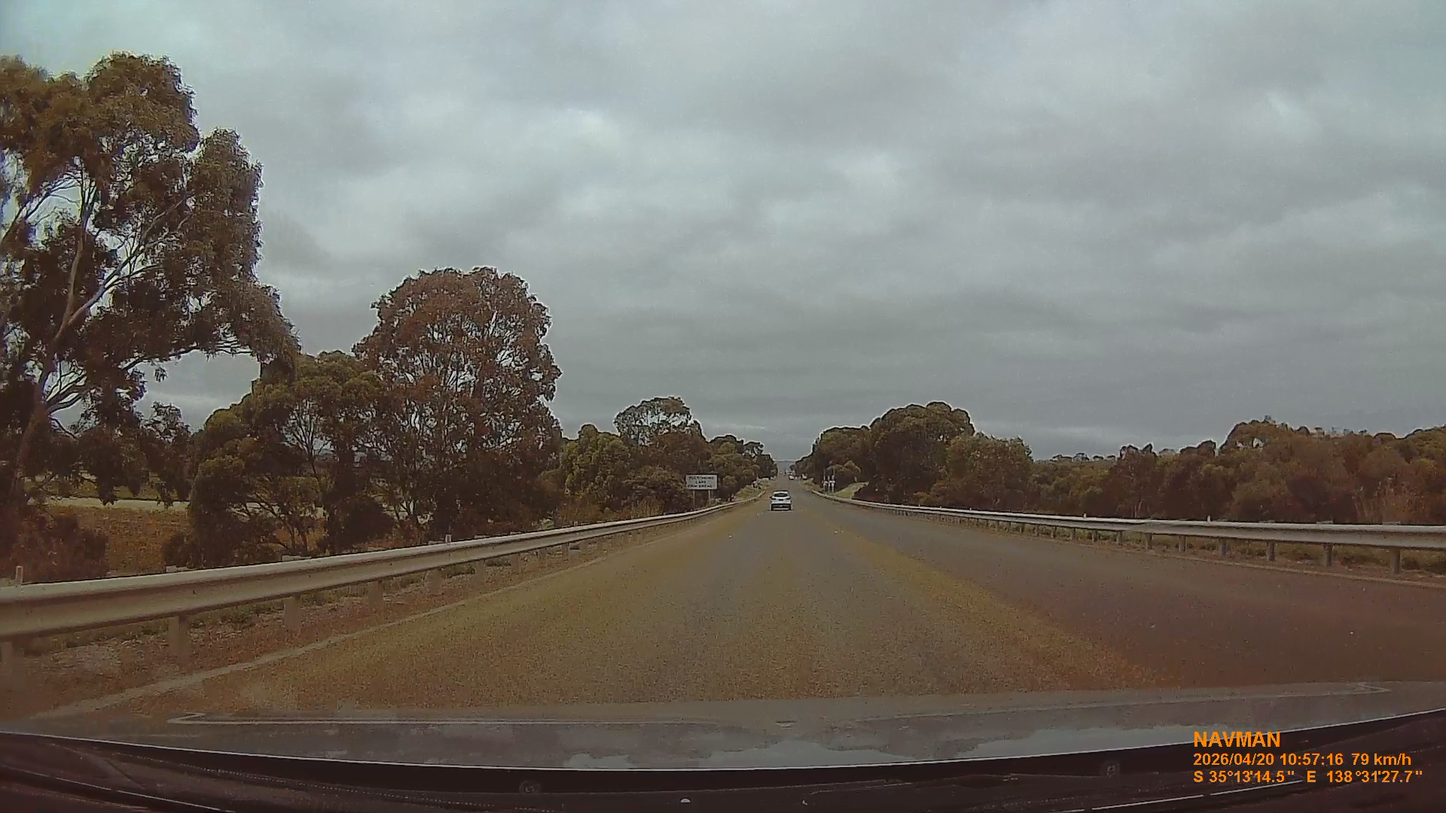road barriers: (0, 508, 718, 641), (859, 502, 1445, 582)
